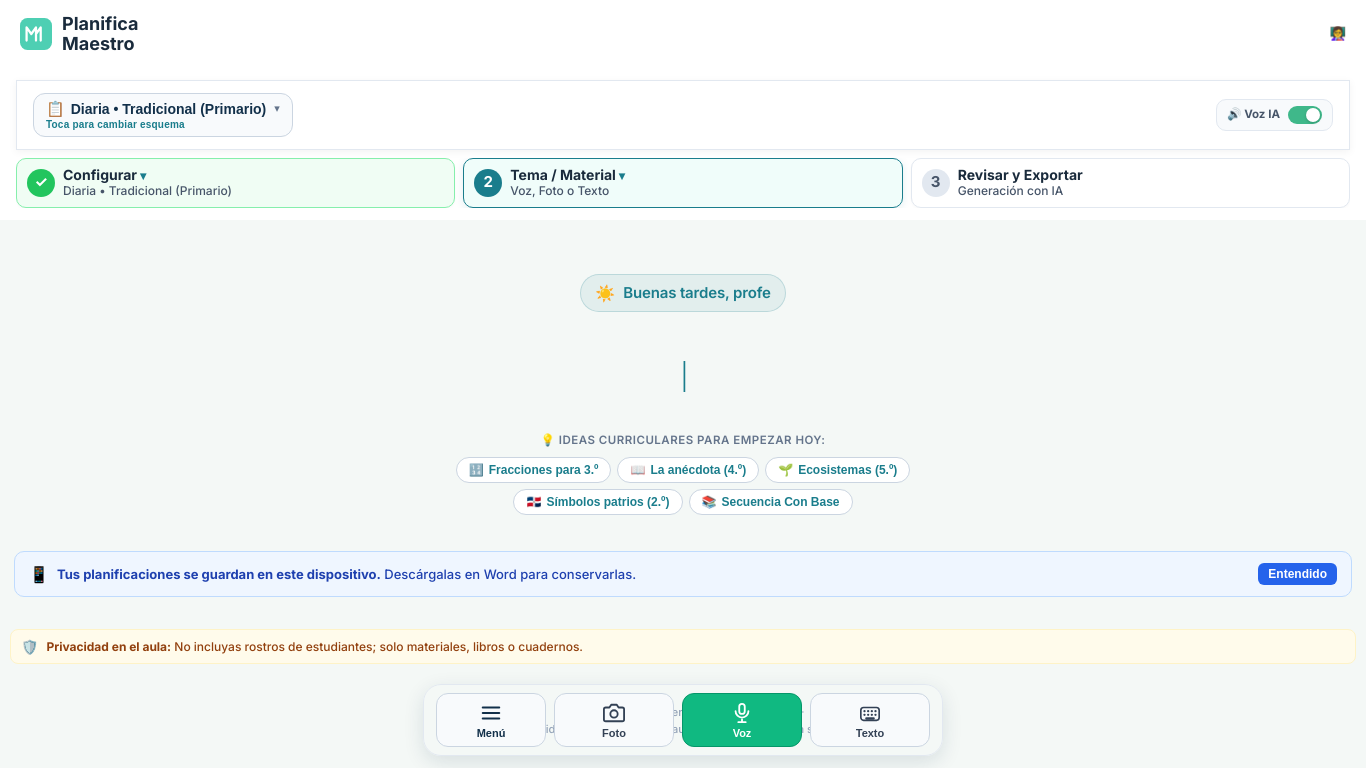
Test: BLOQUE 1: Pruebas con Componentes Reales (Vitest + Testing Library) › 5. Avatar en vista clásica: abre el menú original del Header
This screenshot has width=1366, height=768.
Al hacer clic en el avatar en vista clásica, abre el dropdown original del Header
Click the button "👩‍🏫": (1338, 34) top-left (1329, 26), bottom-right (1346, 41)
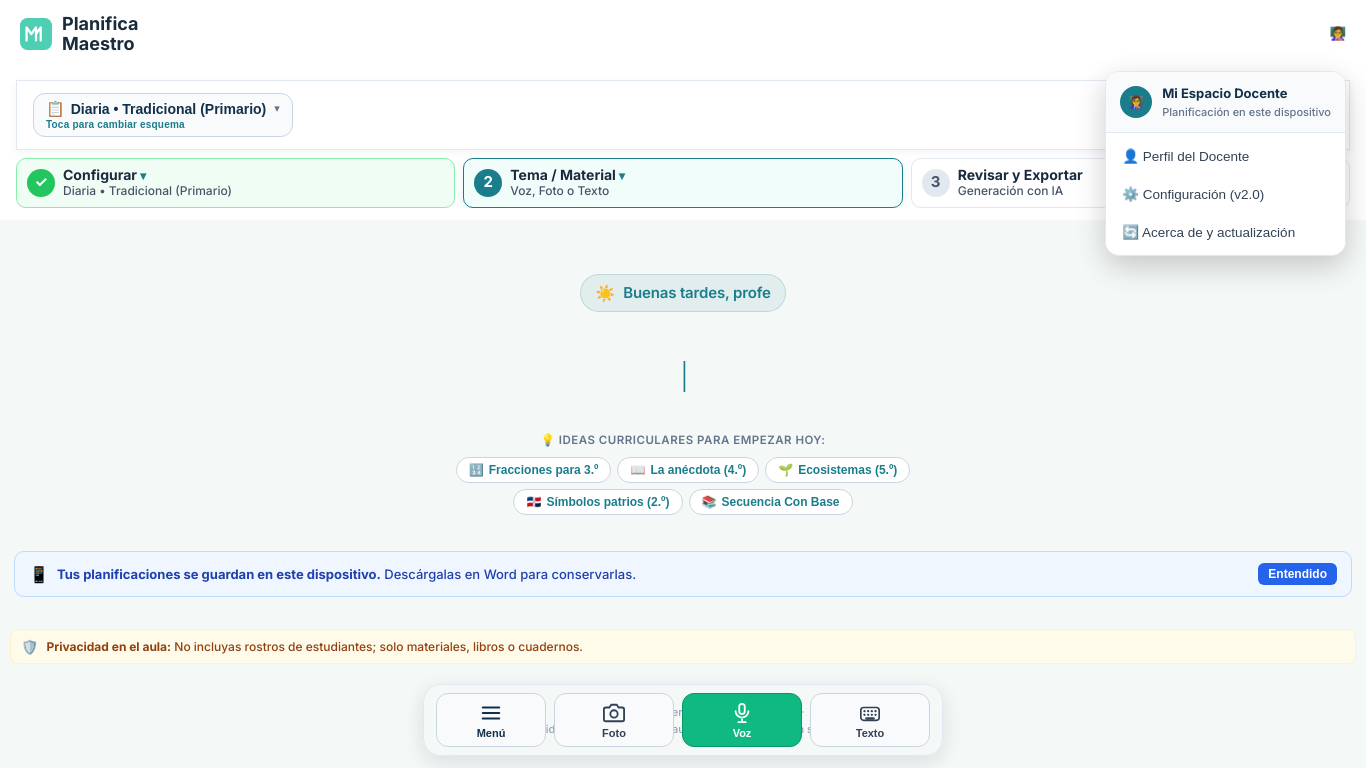
Expected: the element that starts with "Mi Espacio Docente" is shown, top-left (1105, 71), bottom-right (1346, 256)
